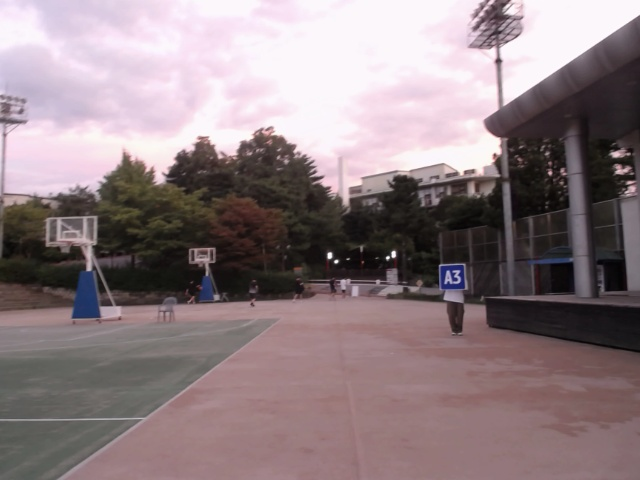delivery_a3: (438, 265, 466, 290)
